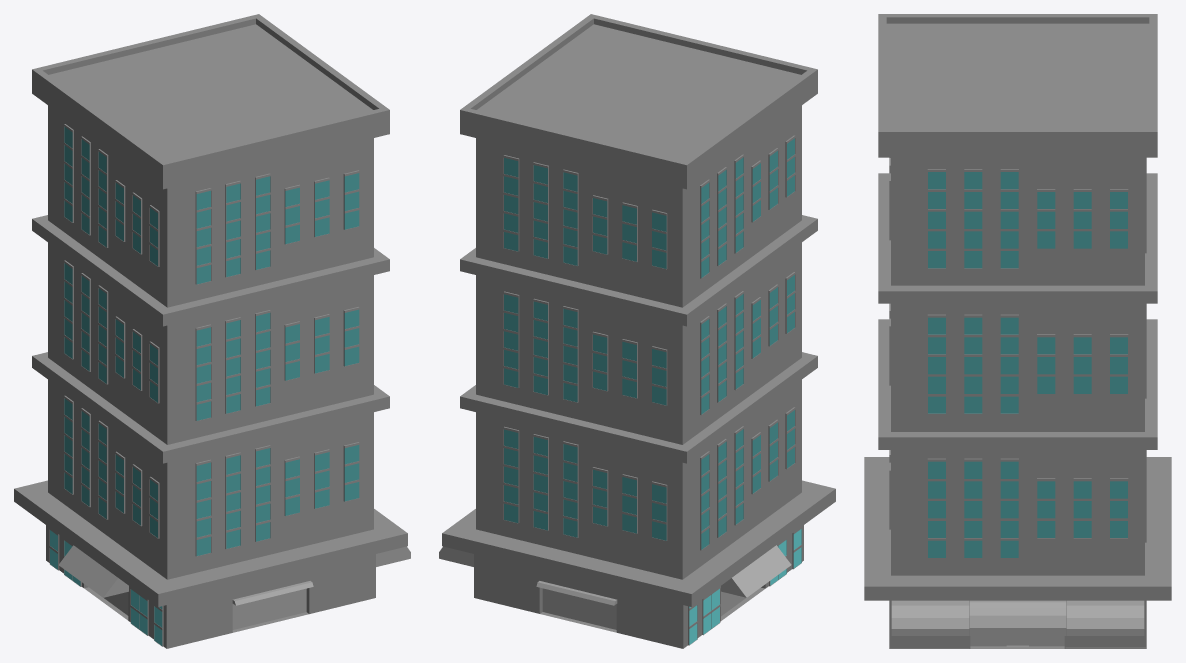
The model's file is Building8.fbx.
3 renders of one model, left to right at view 1: azimuth 30°, elevation 25°; view 2: azimuth 150°, elevation 25°; view 3: azimuth 270°, elevation 25°, orthographic. The views are drawn at different scales.
Parts seen in each view (by area): view 1: Concrete (×3), roof (×4), Windows (×3), polySurface2, windows, shadeBuilding, shade2; view 2: Concrete (×3), roof (×4), Windows (×3), polySurface2, windows, shadeBuilding, shade2; view 3: Concrete (×3), roof (×4), Windows (×3), shadeStore2, polySurface2, shadeStore1.
Boxes of the visible parts, box(x1,y1,x2,y2) form: Concrete (×3): box(48, 105, 373, 579); roof (×4): box(14, 14, 407, 606); Windows (×3): box(64, 124, 359, 556); polySurface2: box(46, 525, 375, 648); windows: box(49, 528, 163, 646); shadeBuilding: box(59, 545, 128, 597); shade2: box(232, 581, 313, 605); Concrete (×3): box(476, 105, 801, 579); roof (×4): box(442, 14, 835, 606); Windows (×3): box(503, 135, 795, 550); polySurface2: box(474, 525, 803, 648); windows: box(688, 526, 801, 645); shadeBuilding: box(721, 545, 791, 597); shade2: box(536, 581, 617, 605); Concrete (×3): box(891, 157, 1144, 575); roof (×4): box(864, 14, 1171, 600); Windows (×3): box(889, 157, 1146, 558); shadeStore2: box(891, 600, 1144, 635); polySurface2: box(889, 600, 1146, 648); shadeStore1: box(969, 600, 1066, 635).
Bounding box in the file's own units: 2115 × 3654 × 1949.
